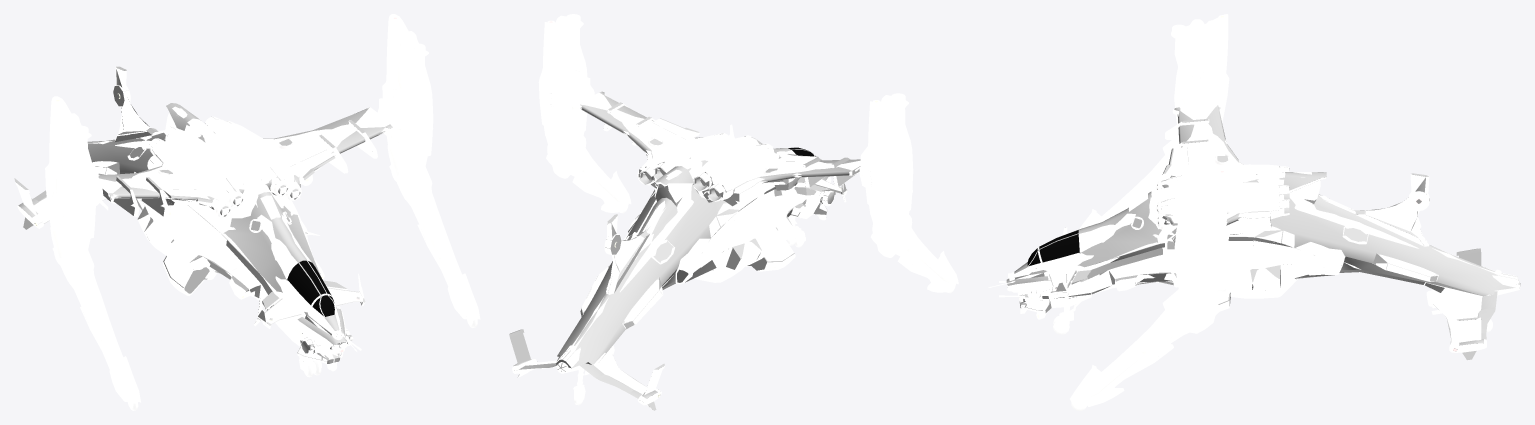
The picture shows the model from 3 angles, left to right: view 1: azimuth 30°, elevation 25°; view 2: azimuth 150°, elevation 25°; view 3: azimuth 270°, elevation 25°; orthographic projection. The views are drawn at different scales.
Parts seen in each view (by area): view 1: Copperhead_Helicopter_Hull_LOD0, OutlineEffectMesh, Copperhead_Helicopter_Engine_FrontPart_R 1, Copperhead_Helicopter_Engine_FrontPart_L_LOD0, Copperhead_Helicopter_Engine_BackPart_L_LOD0, Copperhead_Helicopter_Engine_BackPart_R 1, Copperhead_Helicopter_Glass_LOD0, Copperhead_Helicopter_Mid_flaps_L_LOD0; view 2: Copperhead_Helicopter_Hull_LOD0, OutlineEffectMesh, Copperhead_Helicopter_Engine_FrontPart_R 1, Copperhead_Helicopter_Engine_FrontPart_L_LOD0, Copperhead_Helicopter_Engine_BackPart_R 1, Copperhead_Helicopter_Engine_BackPart_L_LOD0; view 3: Copperhead_Helicopter_Hull_LOD0, OutlineEffectMesh, Copperhead_Helicopter_Engine_FrontPart_L_LOD0, Copperhead_Helicopter_Engine_BackPart_L_LOD0, Copperhead_Helicopter_Engine_FrontPart_R 1, Copperhead_Helicopter_Engine_BackPart_R 1, Copperhead_Helicopter_Glass_LOD0, Copperhead_Helicopter_Mid_flaps_R_LOD0.
Part boxes in pixels (<box>): Copperhead_Helicopter_Hull_LOD0: <box>15,66,393,371</box>; OutlineEffectMesh: <box>14,66,392,363</box>; Copperhead_Helicopter_Engine_FrontPart_R 1: <box>45,96,103,259</box>; Copperhead_Helicopter_Engine_FrontPart_L_LOD0: <box>377,14,433,177</box>; Copperhead_Helicopter_Engine_BackPart_L_LOD0: <box>389,158,480,327</box>; Copperhead_Helicopter_Engine_BackPart_R 1: <box>52,241,140,410</box>; Copperhead_Helicopter_Glass_LOD0: <box>287,260,334,316</box>; Copperhead_Helicopter_Mid_flaps_L_LOD0: <box>291,150,333,180</box>; Copperhead_Helicopter_Hull_LOD0: <box>512,92,860,410</box>; OutlineEffectMesh: <box>509,91,860,410</box>; Copperhead_Helicopter_Engine_FrontPart_R 1: <box>859,93,913,235</box>; Copperhead_Helicopter_Engine_FrontPart_L_LOD0: <box>538,14,594,155</box>; Copperhead_Helicopter_Engine_BackPart_R 1: <box>870,215,958,293</box>; Copperhead_Helicopter_Engine_BackPart_L_LOD0: <box>546,136,631,213</box>; Copperhead_Helicopter_Hull_LOD0: <box>988,104,1520,359</box>; OutlineEffectMesh: <box>1006,105,1520,360</box>; Copperhead_Helicopter_Engine_FrontPart_L_LOD0: <box>1171,169,1229,313</box>; Copperhead_Helicopter_Engine_BackPart_L_LOD0: <box>1070,289,1220,410</box>; Copperhead_Helicopter_Engine_FrontPart_R 1: <box>1171,14,1229,124</box>; Copperhead_Helicopter_Engine_BackPart_R 1: <box>1079,140,1179,229</box>; Copperhead_Helicopter_Glass_LOD0: <box>1027,230,1079,266</box>; Copperhead_Helicopter_Mid_flaps_R_LOD0: <box>1162,147,1193,176</box>.
Size of what is drawn, in the model's own units: 0.0236 by 0.0152 by 0.0306.
3 materials, 1 textured.
